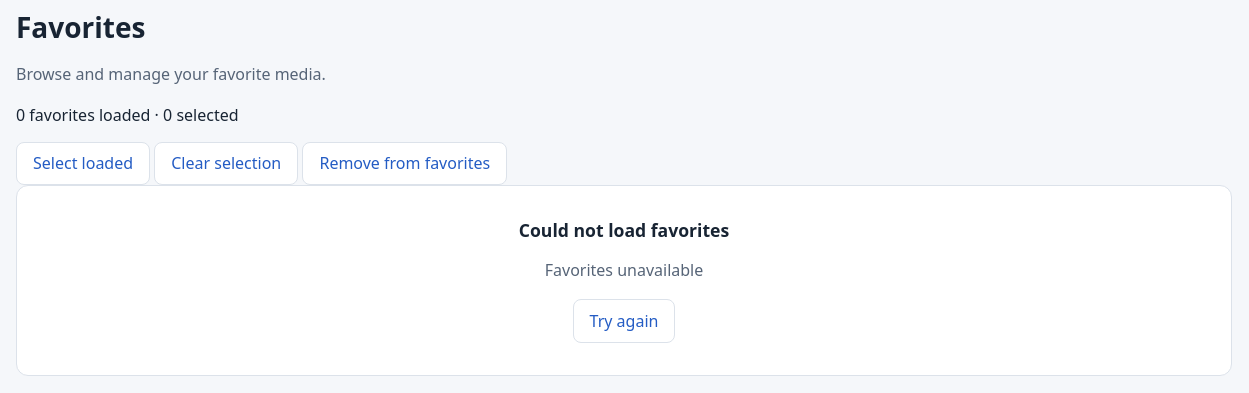
Test: retries initial failures through the media query
This screenshot has width=1249, height=393.
Expected: the message shows "Favorites unavailable", [545, 259, 703, 281]
Click the button "Try again".
click(624, 321)  # box [573, 299, 675, 343]
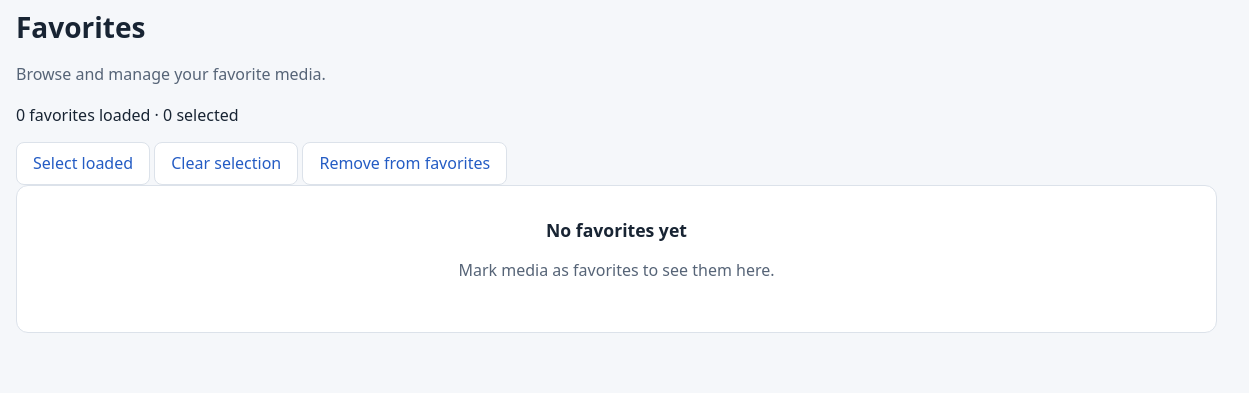
Result: the heading "No favorites yet" is shown at [546, 218, 687, 242]
